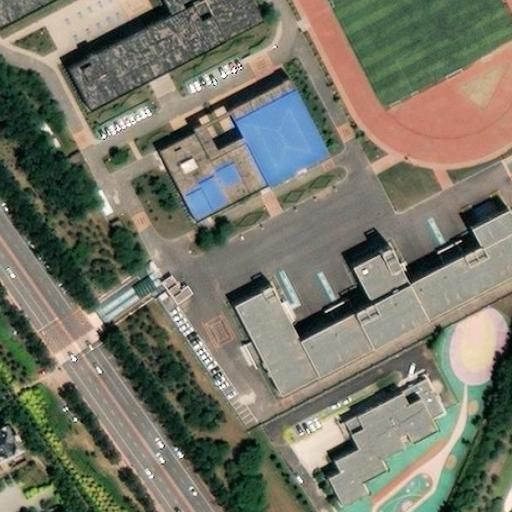building: (228, 208, 512, 393), (158, 81, 325, 221), (332, 398, 448, 512), (155, 265, 190, 302), (82, 179, 112, 215), (145, 68, 176, 98), (61, 144, 87, 170)
